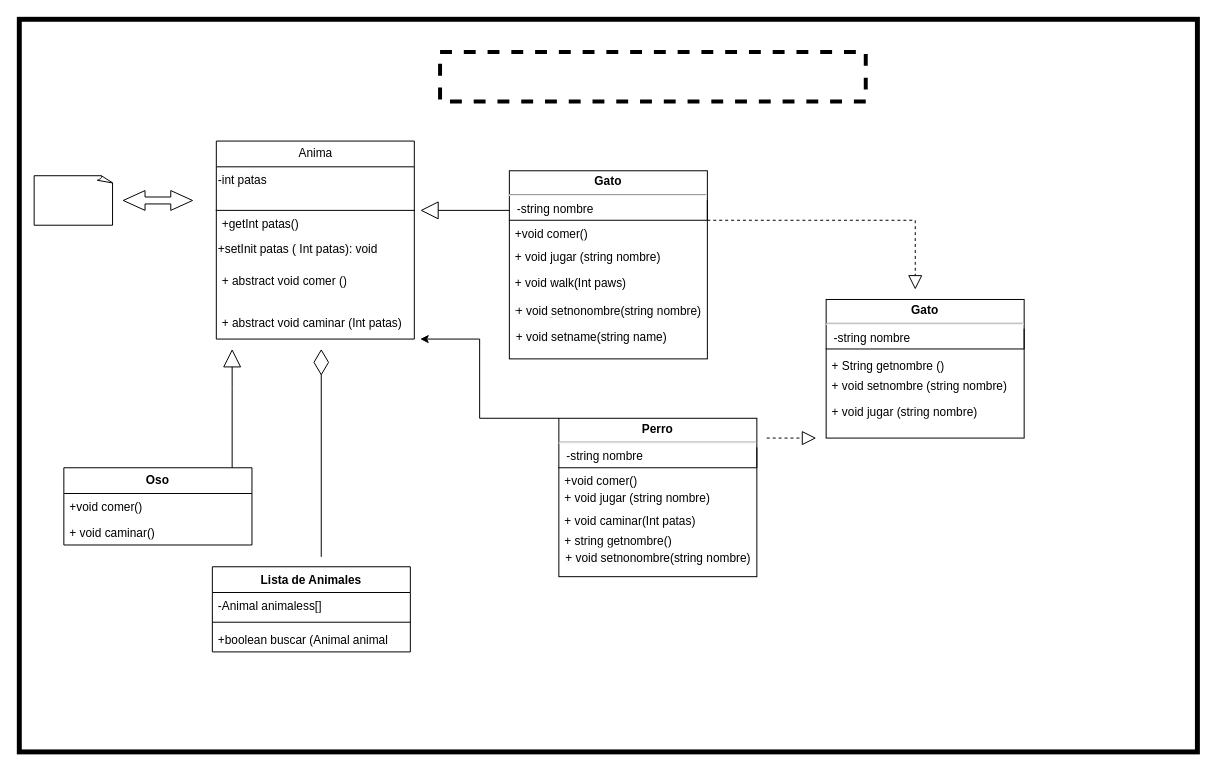
The diagram is 1217 pixels wide and 771 high, and some of its shapes have lost their labels. Each missing label, with the centre of its shape:
Es una clasee abstracta: the point at 73,200
UML ANIMALES: the point at 652,76
